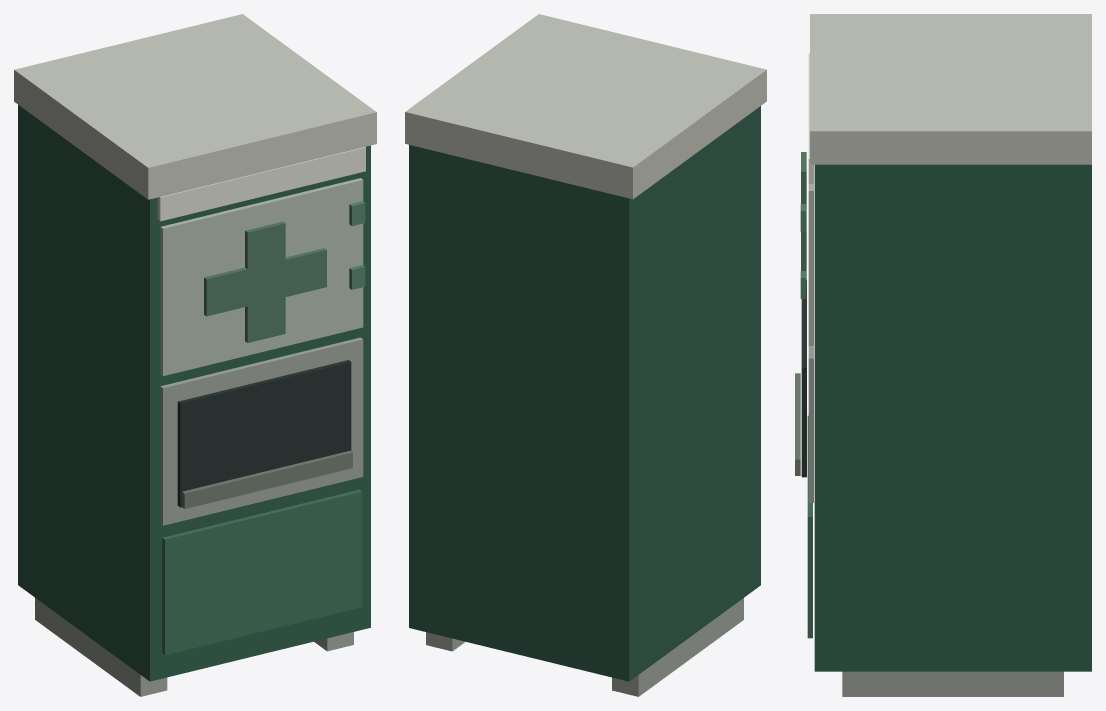
Rendered from CMU3DSmartMedicalFridge.glb.
3 renders of one model, left to right at view 1: azimuth 30°, elevation 25°; view 2: azimuth 150°, elevation 25°; view 3: azimuth 270°, elevation 25°, orthographic. The views are drawn at different scales.
Parts seen in each view (by area): view 1: medical fridge cabinet, rounded top cap, lower green panel, medical label panel, recessed dispensing bay, dispensing bay rim, top white molding, medical cross upright, medical cross horizontal, lower dispensing shelf, fridge foot; view 2: medical fridge cabinet, rounded top cap, fridge foot; view 3: medical fridge cabinet, rounded top cap, fridge foot, recessed dispensing bay, lower green panel, medical label panel, dispensing bay rim, lower dispensing shelf.
Part boxes in pixels (x1=…): medical fridge cabinet: x1=18, y1=105, x2=370, y2=681; rounded top cap: x1=14, y1=14, x2=376, y2=199; lower green panel: x1=162, y1=489, x2=362, y2=655; medical label panel: x1=160, y1=178, x2=363, y2=376; recessed dispensing bay: x1=177, y1=360, x2=351, y2=507; dispensing bay rim: x1=160, y1=337, x2=363, y2=525; top white molding: x1=157, y1=147, x2=365, y2=221; medical cross upright: x1=245, y1=221, x2=285, y2=342; medical cross horizontal: x1=204, y1=248, x2=326, y2=316; lower dispensing shelf: x1=182, y1=450, x2=352, y2=508; fridge foot: x1=35, y1=598, x2=167, y2=696; medical fridge cabinet: x1=409, y1=106, x2=760, y2=681; rounded top cap: x1=405, y1=14, x2=766, y2=199; fridge foot: x1=612, y1=598, x2=743, y2=696; medical fridge cabinet: x1=814, y1=164, x2=1091, y2=671; rounded top cap: x1=810, y1=14, x2=1091, y2=164; fridge foot: x1=842, y1=671, x2=1063, y2=696; recessed dispensing bay: x1=801, y1=280, x2=806, y2=477; lower green panel: x1=807, y1=415, x2=812, y2=638; medical label panel: x1=808, y1=184, x2=813, y2=345; dispensing bay rim: x1=808, y1=346, x2=813, y2=502; lower dispensing shelf: x1=795, y1=373, x2=800, y2=475.
Bounding box in the file's own units: 0.6 × 1.36 × 0.642.
